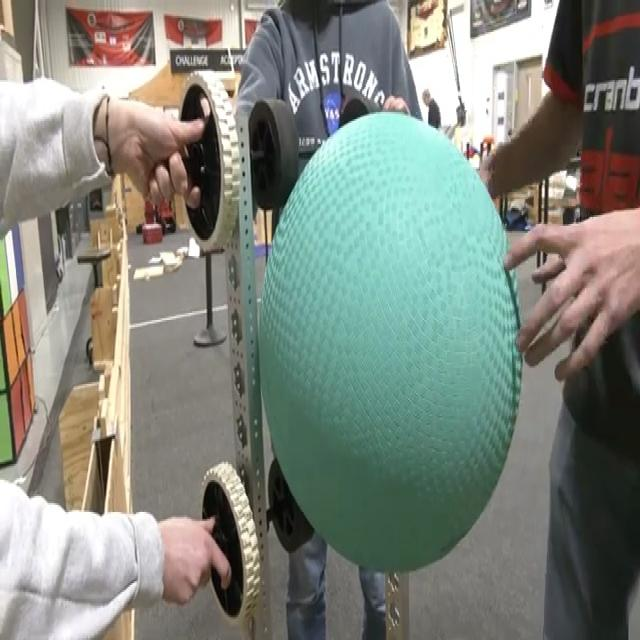Algae: (257, 108, 524, 572)
